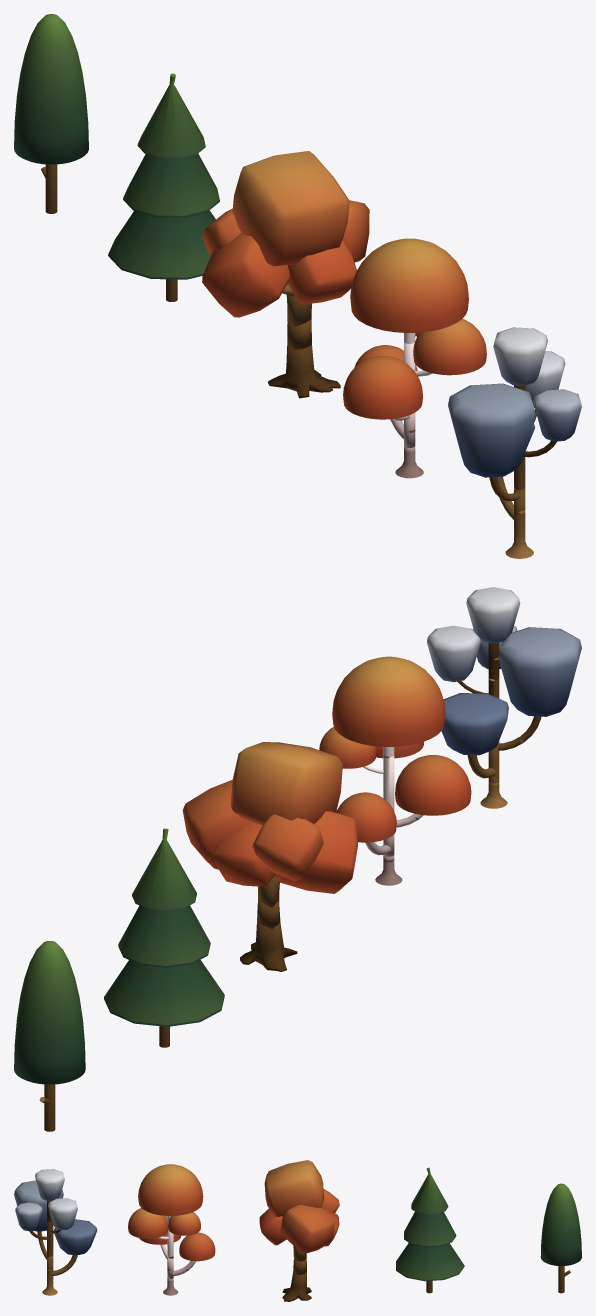
The model's file is Trees.fbx.
3 views of the same model, one above another, from view 1: azimuth 30°, elevation 25°; view 2: azimuth 150°, elevation 25°; view 3: azimuth 270°, elevation 25° (orthographic). The views are drawn at different scales.
Parts seen in each view (by area): view 1: Tree_C, Tree_D.001, Tree_B.006, Tree_E.005, Tree_A.005, Tree_C.001, Tree_E.002; view 2: Tree_C, Tree_D.001, Tree_E.005, Tree_B.006, Tree_A.005, Tree_C.001, Tree_E.002; view 3: Tree_C, Tree_D.001, Tree_B.006, Tree_E.005, Tree_A.005, Tree_C.001, Tree_E.002, Tree_D.004, Tree_E.003, Tree_D.003.
Part boxes in pixels (x1,y1,x2,y2): Tree_C: [202, 151, 369, 317]; Tree_D.001: [343, 238, 486, 419]; Tree_B.006: [108, 73, 219, 279]; Tree_E.005: [448, 327, 581, 477]; Tree_A.005: [14, 14, 88, 164]; Tree_C.001: [268, 345, 340, 398]; Tree_E.002: [489, 476, 525, 528]; Tree_C: [182, 742, 357, 893]; Tree_D.001: [319, 656, 471, 842]; Tree_E.005: [427, 587, 581, 755]; Tree_B.006: [104, 828, 224, 1026]; Tree_A.005: [14, 941, 85, 1084]; Tree_C.001: [240, 922, 297, 971]; Tree_E.002: [467, 716, 541, 779]; Tree_C: [259, 1160, 339, 1253]; Tree_D.001: [128, 1164, 215, 1261]; Tree_B.006: [396, 1167, 464, 1281]; Tree_E.005: [14, 1169, 97, 1255]; Tree_A.005: [540, 1183, 581, 1266]; Tree_C.001: [282, 1272, 311, 1301]; Tree_E.002: [37, 1231, 77, 1278]; Tree_D.004: [160, 1244, 195, 1278]; Tree_E.003: [29, 1221, 60, 1258]; Tree_D.003: [158, 1221, 173, 1258].
Bounding box in the file's own units: 5.49 × 7.01 × 28.85.
